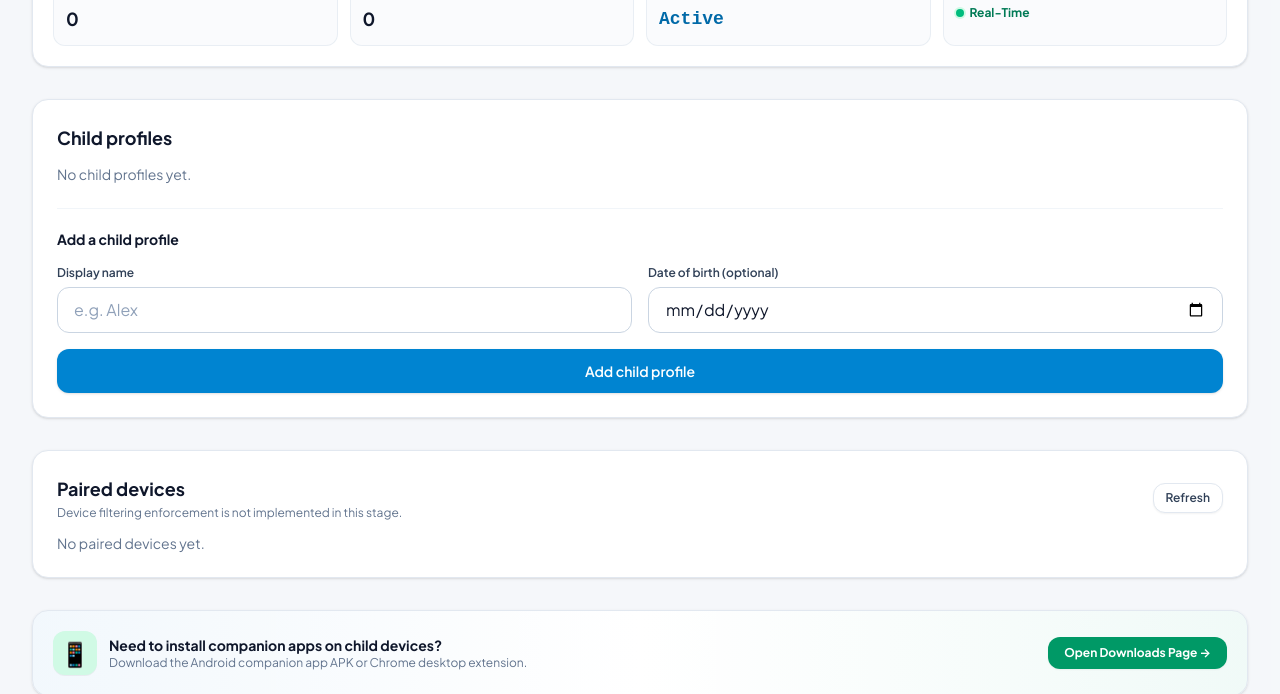
Scenario: KidsGuard web foundation › refreshes paired devices list on demand
(page scrolled)
Expected: the text "No paired devices yet." is shown, [57,534,205,552]
What coordinates should you click on to do the following:
click the button with aria-label "Refresh paired devices"
I would click on:
 (1188, 498)
Its box is [1152,482,1223,512].
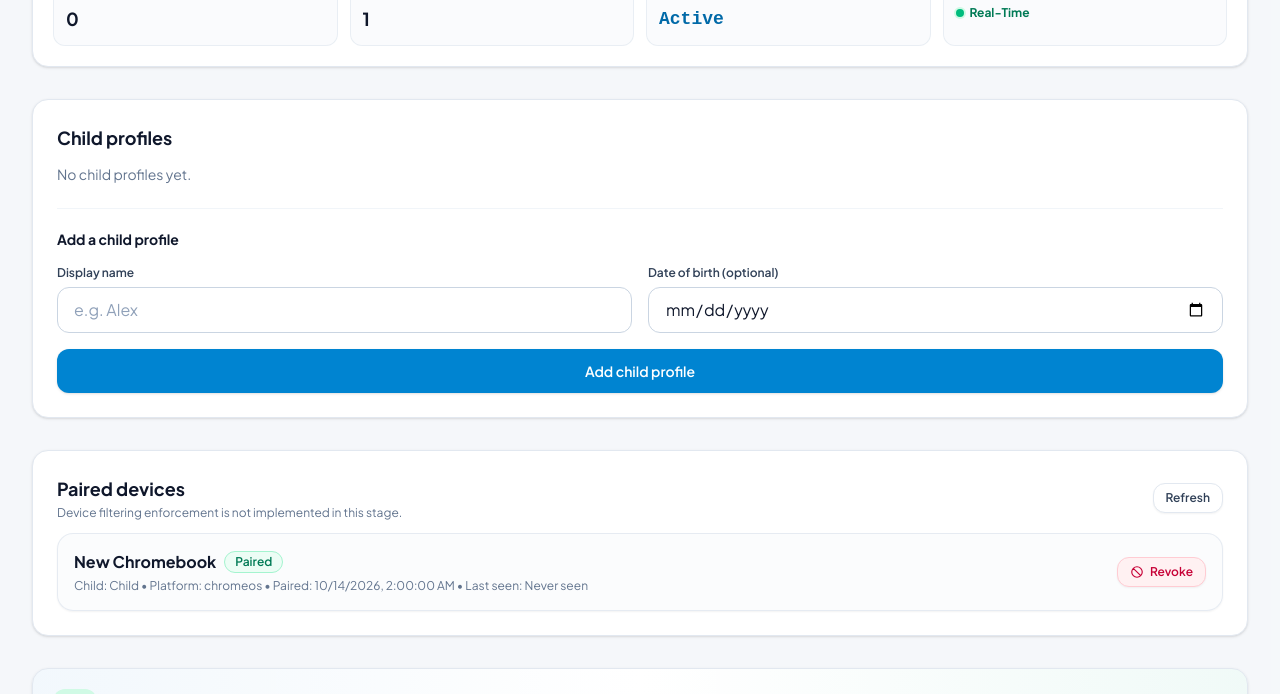
Now the text "New Chromebook" is shown, box [74,550,216,574]
